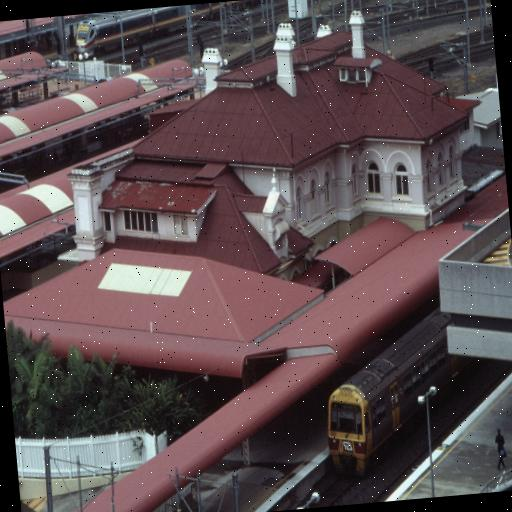platform_edge: (370, 380, 512, 499)
